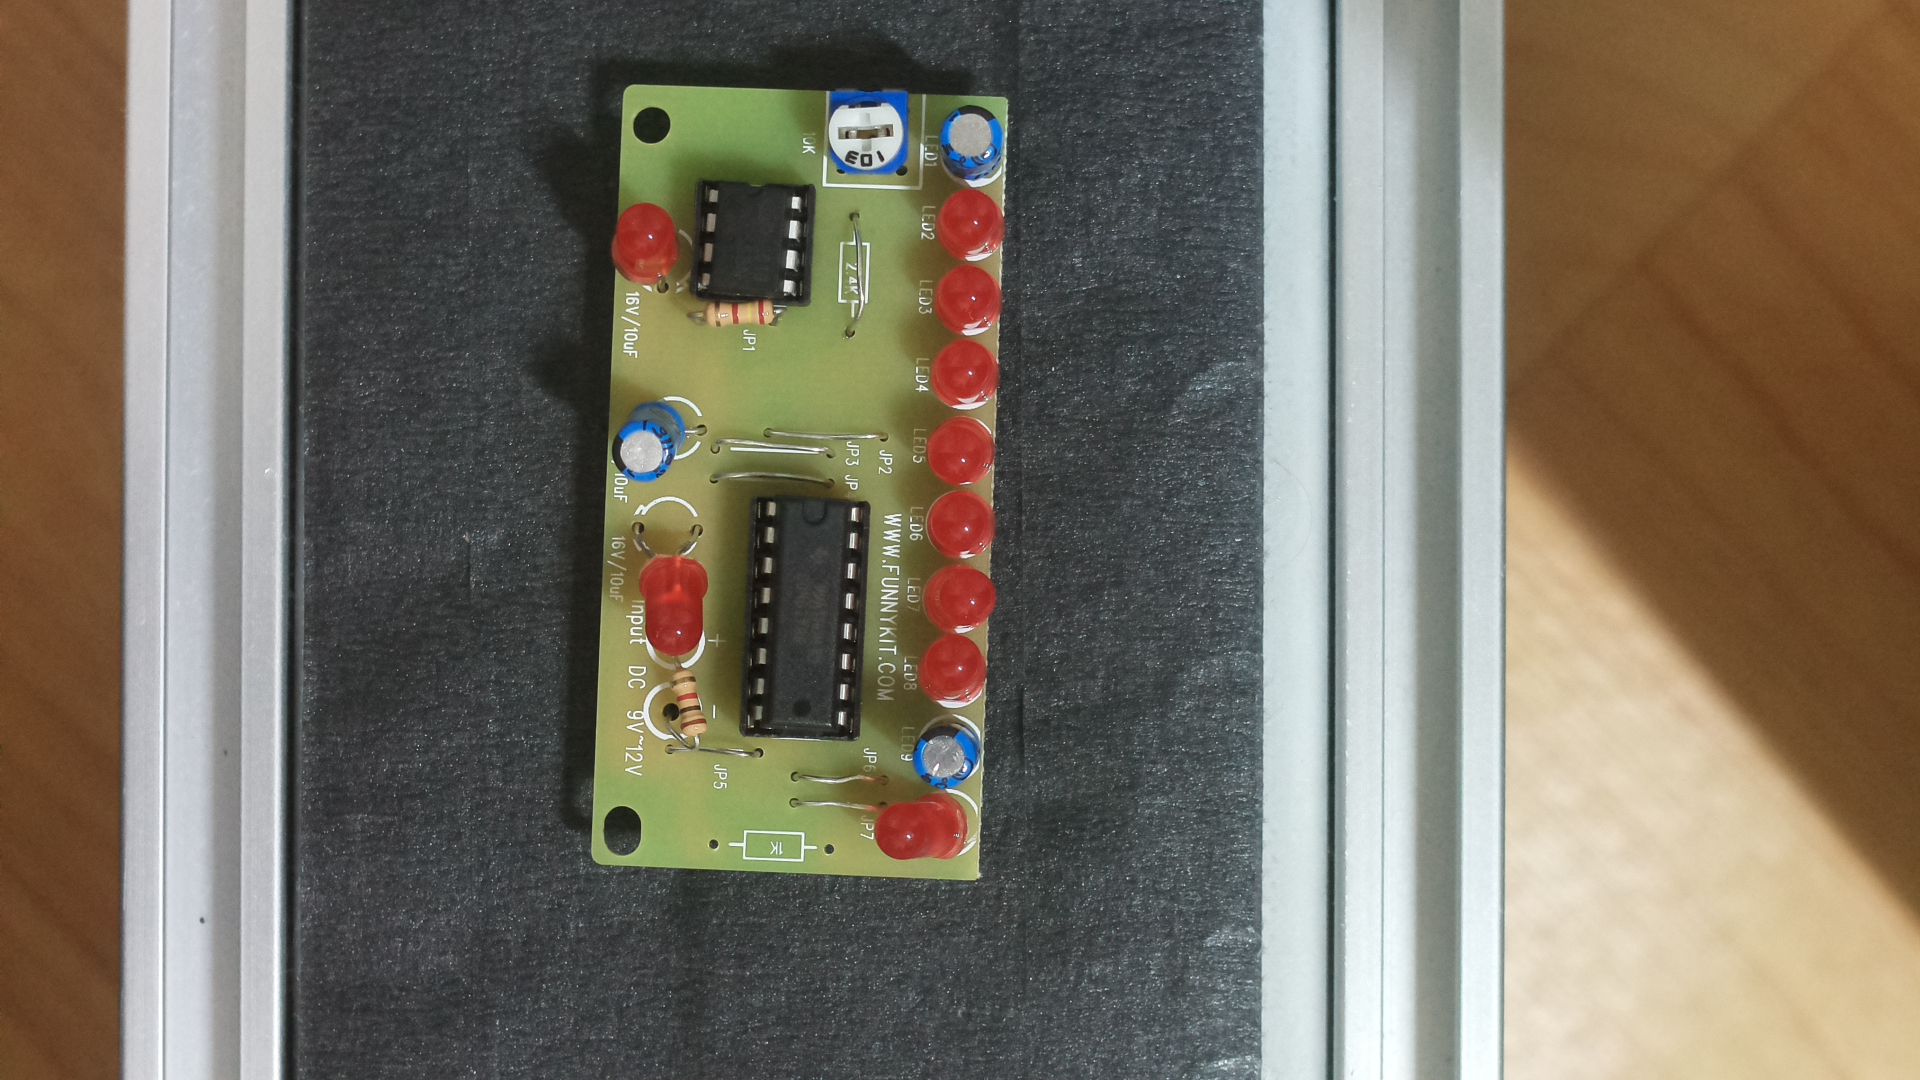B_Misordered: (588, 74, 1015, 909)
